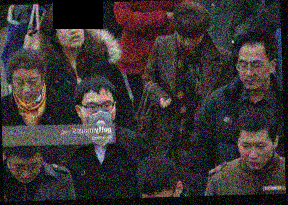with_mask: (79, 97, 117, 133)
without_mask: (236, 137, 273, 171), (237, 56, 270, 92), (54, 14, 86, 49), (11, 72, 42, 103), (8, 157, 42, 183), (176, 31, 203, 51)
